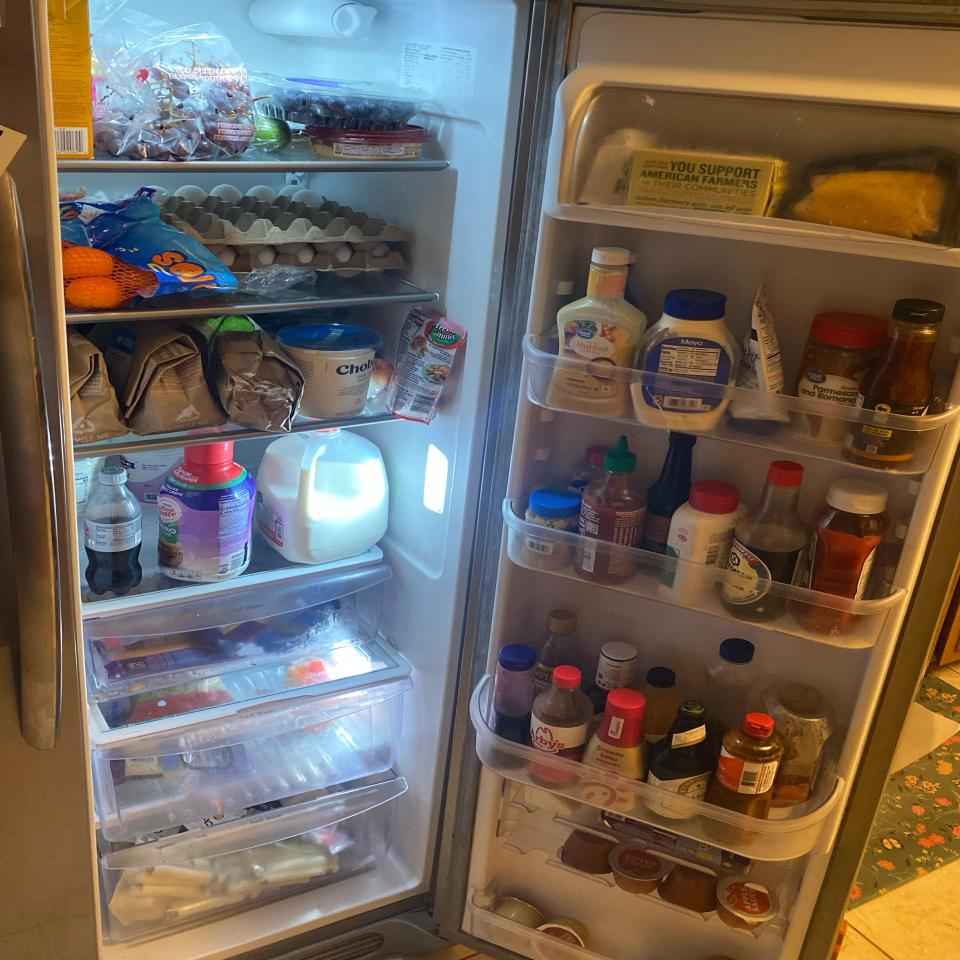Huevos: (160, 184, 403, 278)
Leche: (260, 429, 388, 563)
